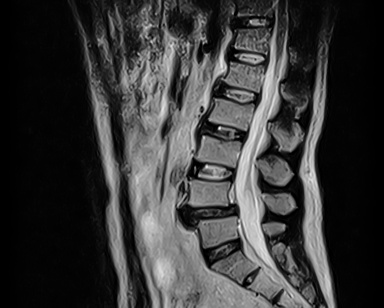L1,v2: (216, 57, 275, 93)
L1-L2,v1: (206, 74, 267, 116)
L2,v2: (201, 95, 263, 133)
L2-L3,v2: (192, 114, 255, 152)
L3,v2: (190, 133, 250, 168)
L3-L4,v1: (179, 149, 247, 192)
L4,v2: (180, 172, 243, 210)
L4-L5,v2: (177, 192, 244, 229)
L5,v2: (186, 211, 250, 248)
L5-S1,v2: (191, 230, 254, 266)
T12-L1,v1: (218, 38, 279, 74)
